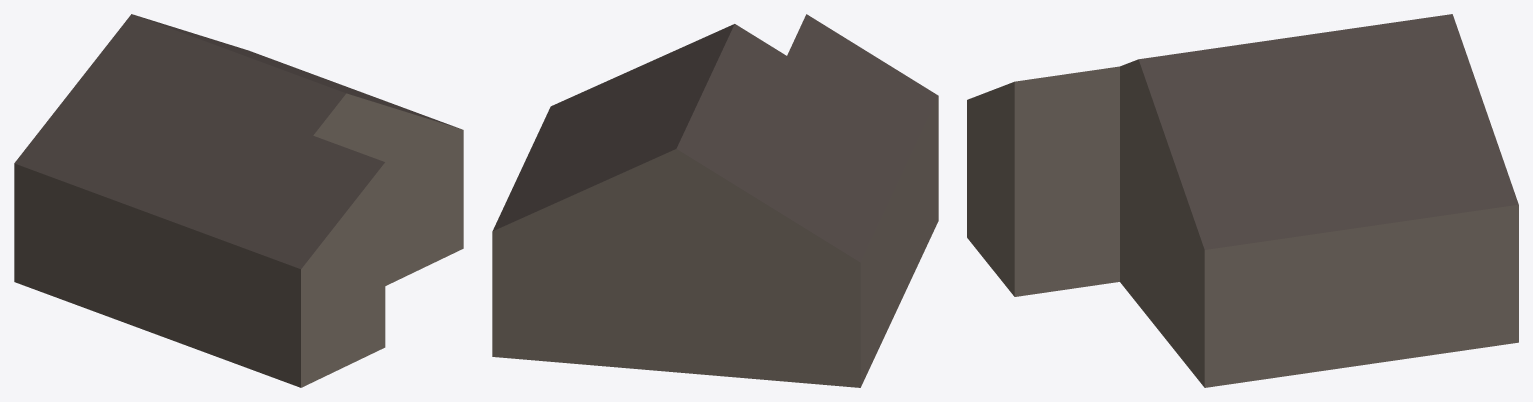
3 renders of one model, left to right at view 1: azimuth 30°, elevation 25°; view 2: azimuth 150°, elevation 25°; view 3: azimuth 270°, elevation 25°, orthographic. The views are drawn at different scales.
Parts seen in each view (by area): view 1: HP-w1367350978; view 2: HP-w1367350978; view 3: HP-w1367350978.
Boxes of the visible parts, <box> form: HP-w1367350978: <box>14,14,463,387</box>; HP-w1367350978: <box>492,14,938,387</box>; HP-w1367350978: <box>967,14,1518,387</box>.
Size of the model in its own units: 19.66 by 10.7 by 21.75.
